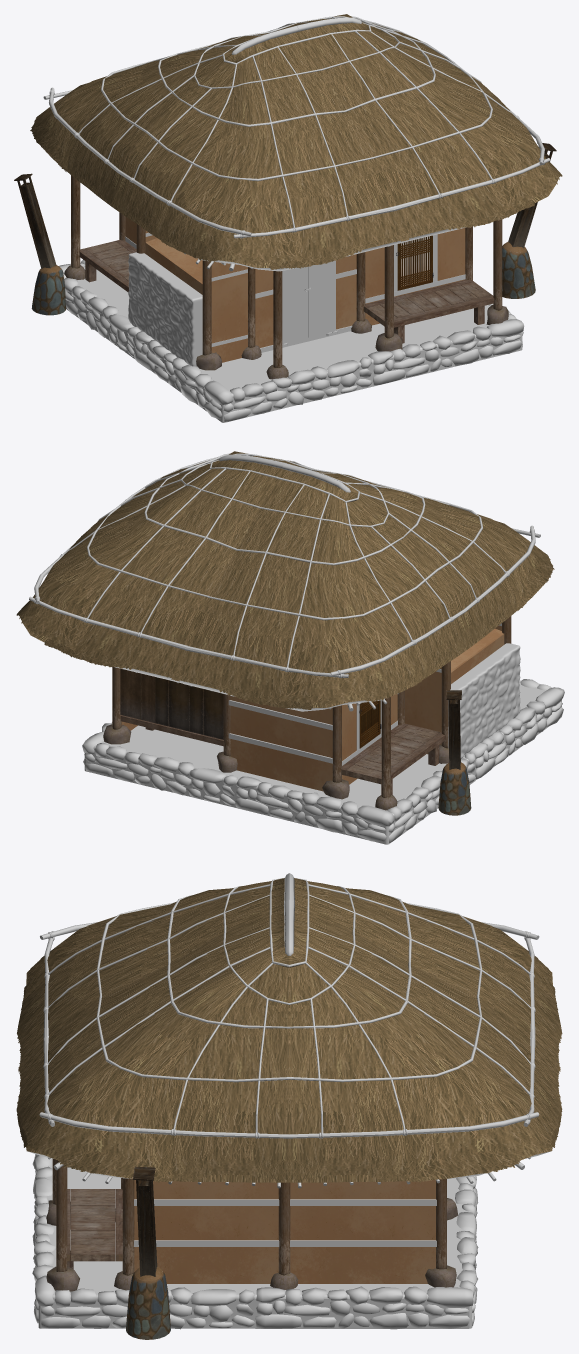
The model's file is Tavern_House_01.fbx.
3 views of the same model, one above another, from view 1: azimuth 30°, elevation 25°; view 2: azimuth 150°, elevation 25°; view 3: azimuth 270°, elevation 25° (orthographic). The views are drawn at different scales.
Visible parts, largest first — view 1: SM_Roof01a.004, SM_Roof01a.007, SM_Roof01a.005, SM_Ground02a.003, SM_Wall01b.004, SM_Ground01a.011, SM_Ground02a.006, SM_Floor01b.003, SM_Ground01a.014, SM_Wall04a, SM_Chimney01a.002, SM_Wall08a.001 (+20 smaller); view 2: SM_Roof01a.005, SM_Roof01a.006, SM_Roof01a.004, SM_Ground02a.004, SM_Wall01a.016, SM_Wall01b.004, SM_Ground02a.005, SM_Ground01a.012, SM_Ground01a.013, SM_Ground02a.003, SM_Floor01b.002, SM_Chimney01a.002 (+17 smaller); view 3: SM_Roof01a.006, SM_Roof01a.007, SM_Roof01a.005, SM_Roof01a.004, SM_Wall01a.019, SM_Wall01a.017, SM_Ground02a.005, SM_Ground02a.006, SM_Chimney01a, SM_Floor01b.003, SM_Ground01a.014, SM_Ground01a.013 (+9 smaller).
Part boxes in pixels (x1,y1,x2,y2): SM_Roof01a.004: (112, 26, 404, 271); SM_Roof01a.007: (297, 17, 562, 243); SM_Roof01a.005: (30, 26, 294, 206); SM_Ground02a.003: (134, 331, 372, 421); SM_Wall01b.004: (128, 252, 202, 366); SM_Ground01a.011: (136, 334, 372, 422); SM_Ground02a.006: (368, 303, 524, 385); SM_Floor01b.003: (364, 279, 494, 343); SM_Ground01a.014: (337, 305, 522, 386); SM_Wall04a: (211, 262, 247, 362); SM_Chimney01a.002: (14, 173, 65, 315); SM_Wall08a.001: (255, 254, 356, 347); SM_Roof01a.005: (176, 463, 471, 711); SM_Roof01a.006: (16, 454, 285, 683); SM_Roof01a.004: (286, 463, 554, 645); SM_Ground02a.004: (235, 752, 475, 842); SM_Wall01a.016: (230, 696, 332, 791); SM_Wall01b.004: (448, 643, 520, 758); SM_Ground02a.005: (82, 722, 237, 805); SM_Ground01a.012: (235, 754, 475, 844); SM_Ground01a.013: (84, 725, 246, 807); SM_Ground02a.003: (469, 679, 564, 779); SM_Floor01b.002: (341, 723, 445, 794); SM_Chimney01a.002: (438, 690, 471, 815); SM_Roof01a.006: (289, 900, 562, 1188); SM_Roof01a.007: (16, 900, 289, 1188); SM_Roof01a.005: (289, 873, 562, 1069); SM_Roof01a.004: (17, 873, 289, 1068); SM_Wall01a.019: (290, 1179, 435, 1283); SM_Wall01a.017: (134, 1180, 278, 1283); SM_Ground02a.005: (255, 1203, 478, 1329); SM_Ground02a.006: (32, 1203, 254, 1329); SM_Chimney01a: (126, 1166, 170, 1339); SM_Floor01b.003: (67, 1189, 122, 1269); SM_Ground01a.014: (38, 1204, 255, 1328); SM_Ground01a.013: (255, 1204, 472, 1328).
Size of the model in its own units: 852 by 544 by 762.
